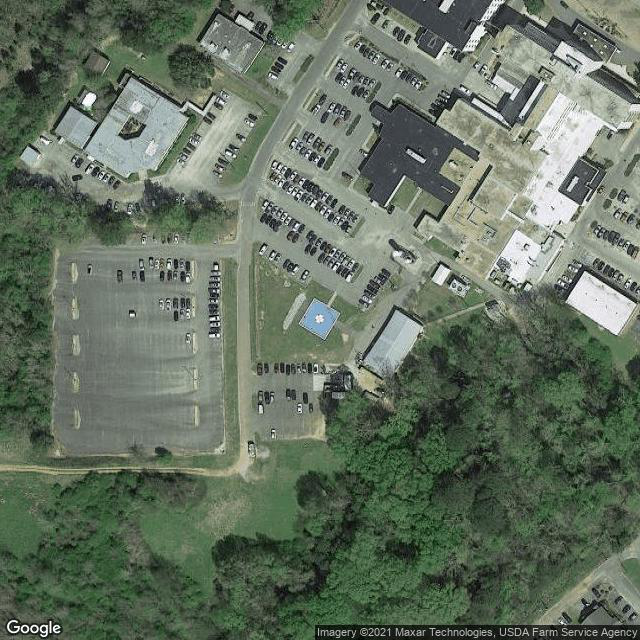Helipad: (301, 297, 339, 337)
